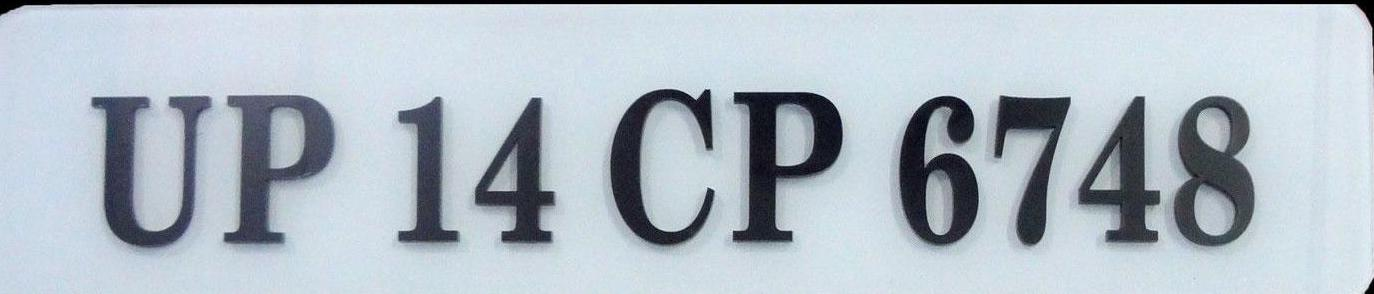1: (394, 94, 466, 244)
4: (471, 92, 565, 246), (1075, 93, 1168, 243)
6: (896, 93, 981, 246)
7: (990, 92, 1073, 250)
8: (1171, 91, 1255, 246)
C: (600, 83, 720, 246)
P: (730, 89, 845, 252), (219, 92, 336, 246)
U: (86, 91, 214, 249)
